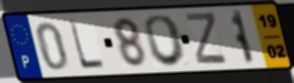0: (33, 20, 72, 71)
1: (229, 8, 258, 67)
8: (110, 15, 149, 69)
L: (66, 18, 107, 71)
O: (143, 14, 189, 69)
Z: (184, 11, 230, 67)
